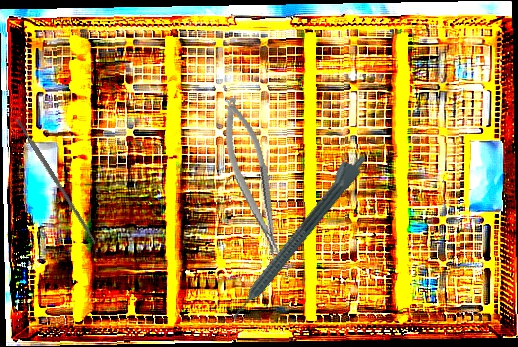Handpiece: (221, 147, 370, 323)
Needle Holder: (214, 93, 291, 269)
Scalpel Handle: (15, 117, 98, 245)
